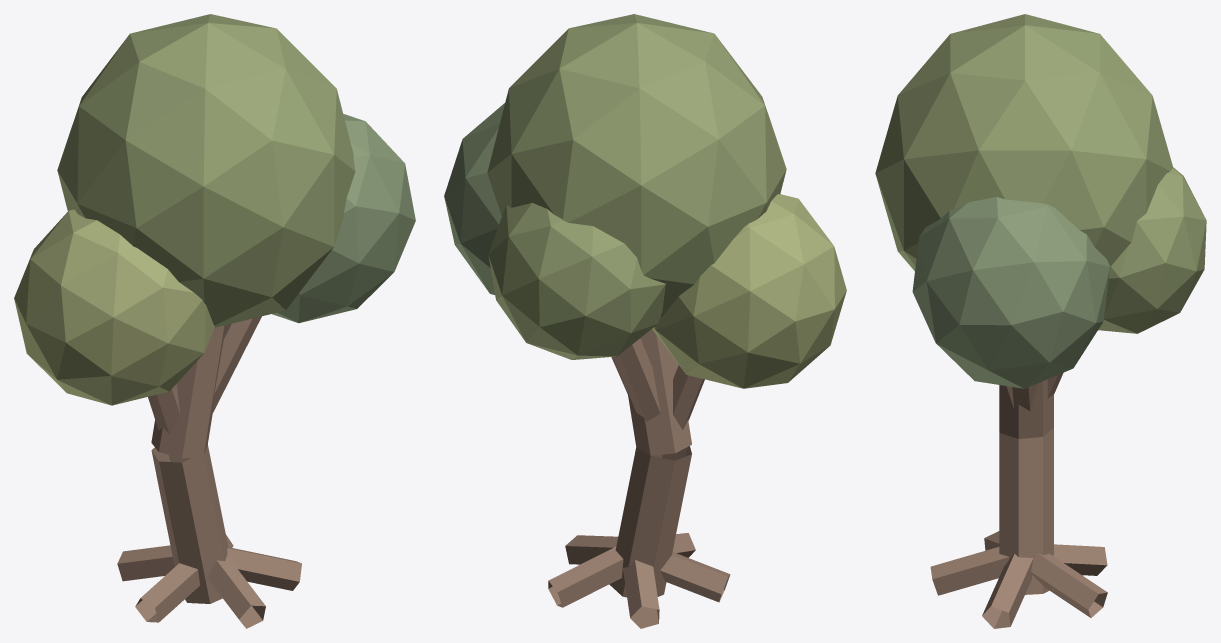
3 renders of one model, left to right at view 1: azimuth 30°, elevation 25°; view 2: azimuth 150°, elevation 25°; view 3: azimuth 270°, elevation 25°, orthographic.
Parts seen in each view (by area): view 1: T13; view 2: T13; view 3: T13.
Part boxes in pixels (<box>): T13: <box>14,14,415,628</box>; T13: <box>444,14,846,628</box>; T13: <box>875,14,1206,628</box>.
Size of the model in its own units: 2.42 by 3.5 by 1.84.
